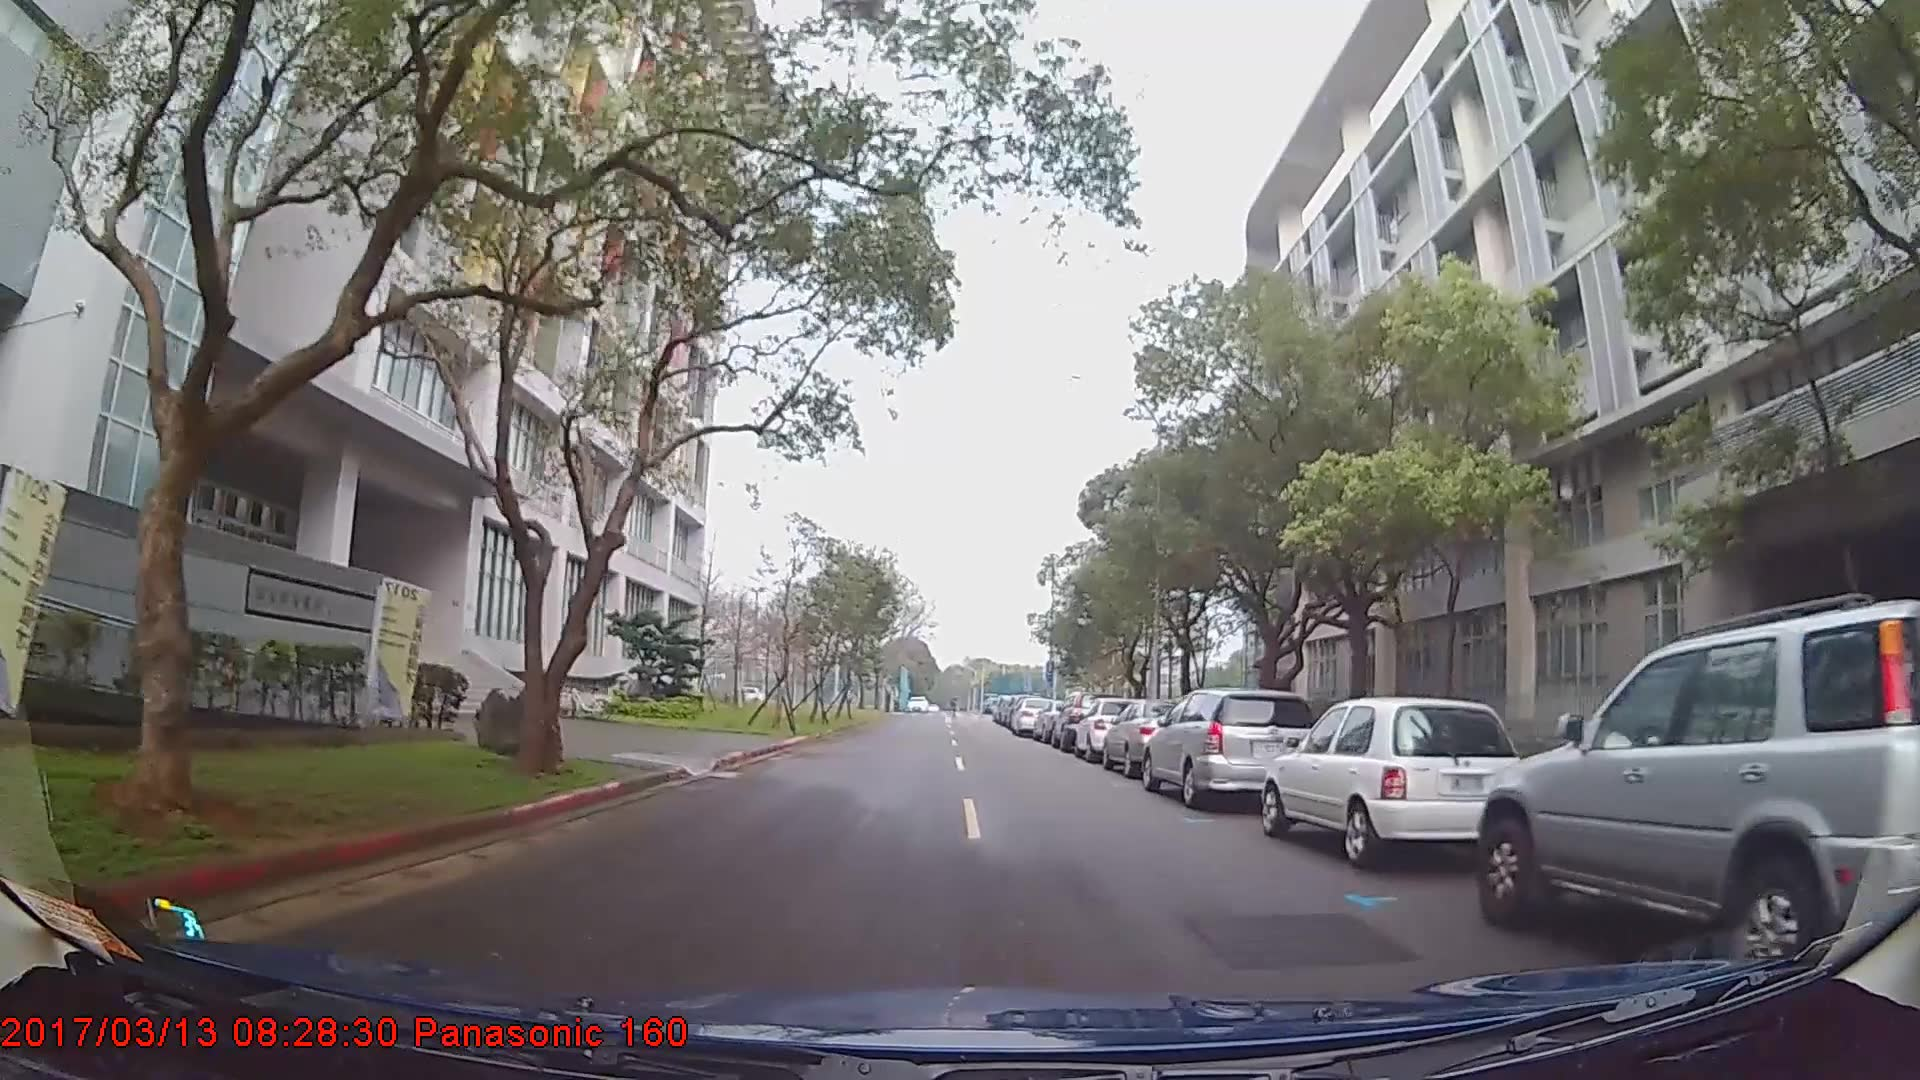vehicle: (1472, 597, 1920, 978), (1259, 694, 1528, 865), (1139, 688, 1324, 808), (1100, 694, 1203, 775), (1007, 694, 1056, 736)
